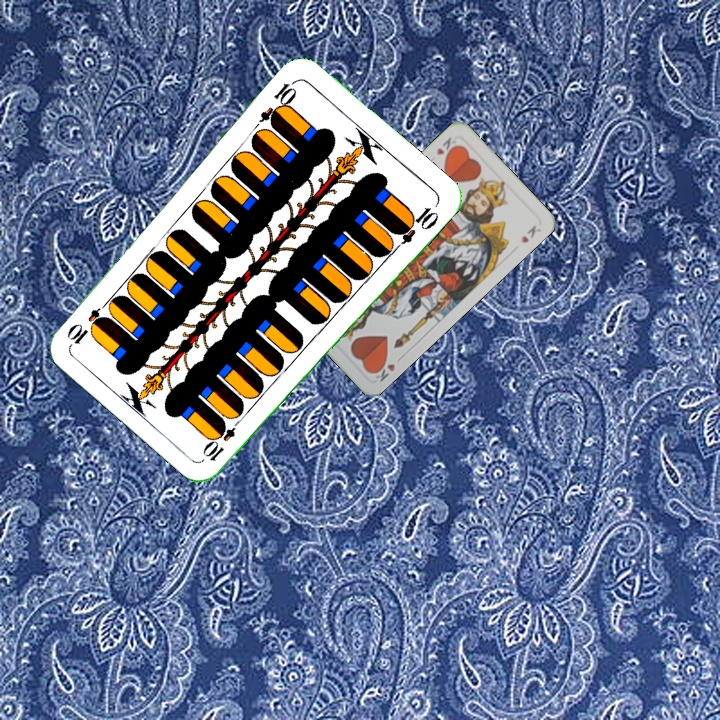E10: (200, 412, 246, 465), (256, 75, 300, 129)
HK: (368, 352, 405, 385), (432, 133, 461, 160)
